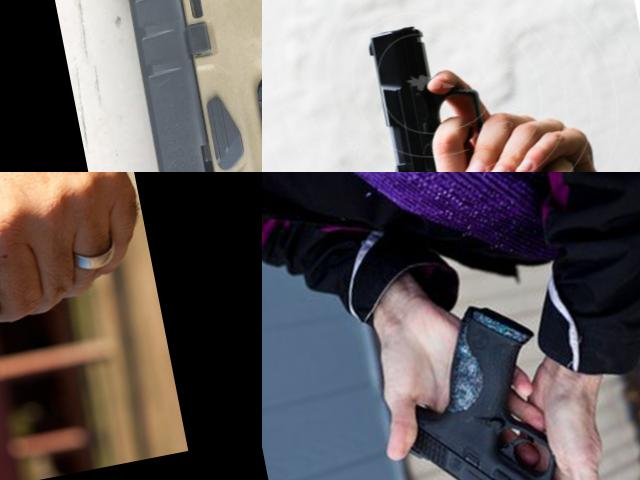handgun: (370, 279, 618, 480), (0, 172, 119, 480), (354, 0, 557, 172), (88, 0, 262, 172)
